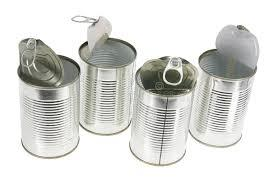Tin: (4, 5, 275, 183)
